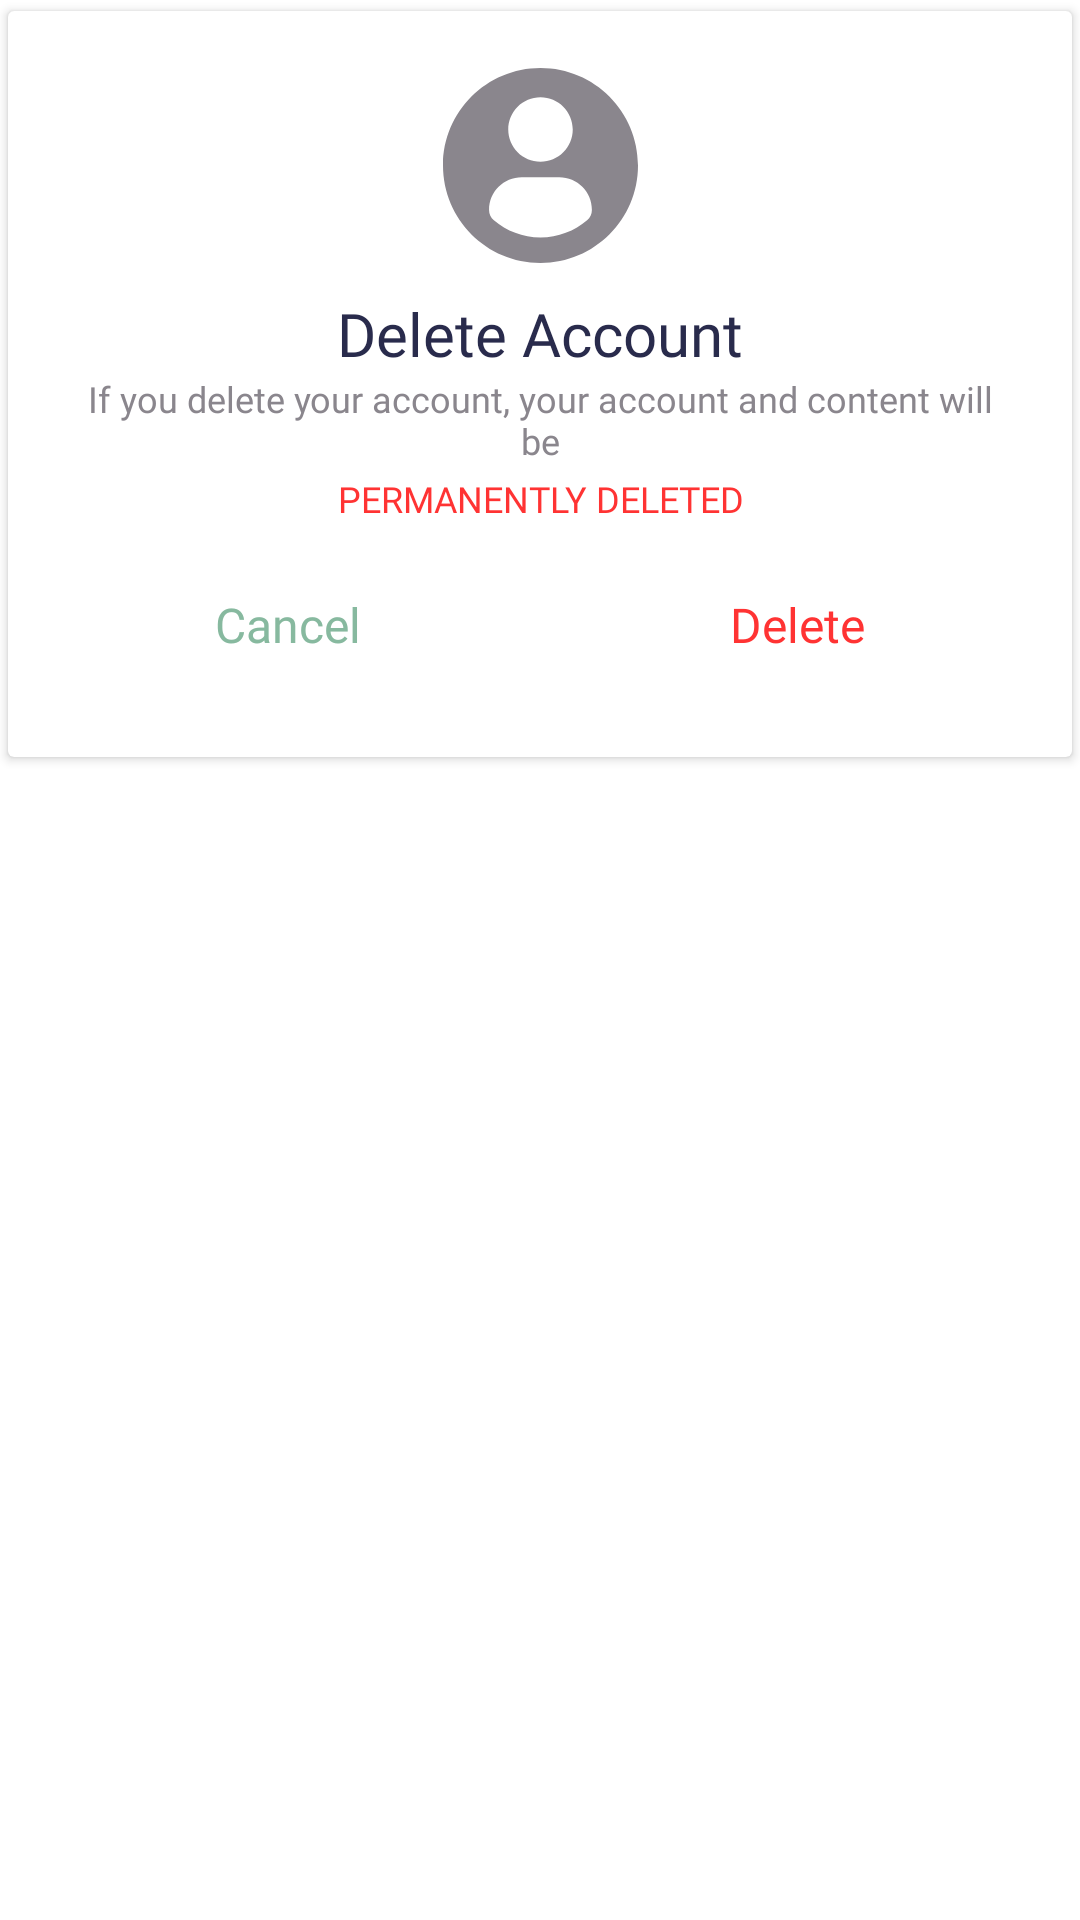

Icons on this 1080x1920 Android screen, each with the point to tap as point (x, y):
profile picture: point (540, 165)
